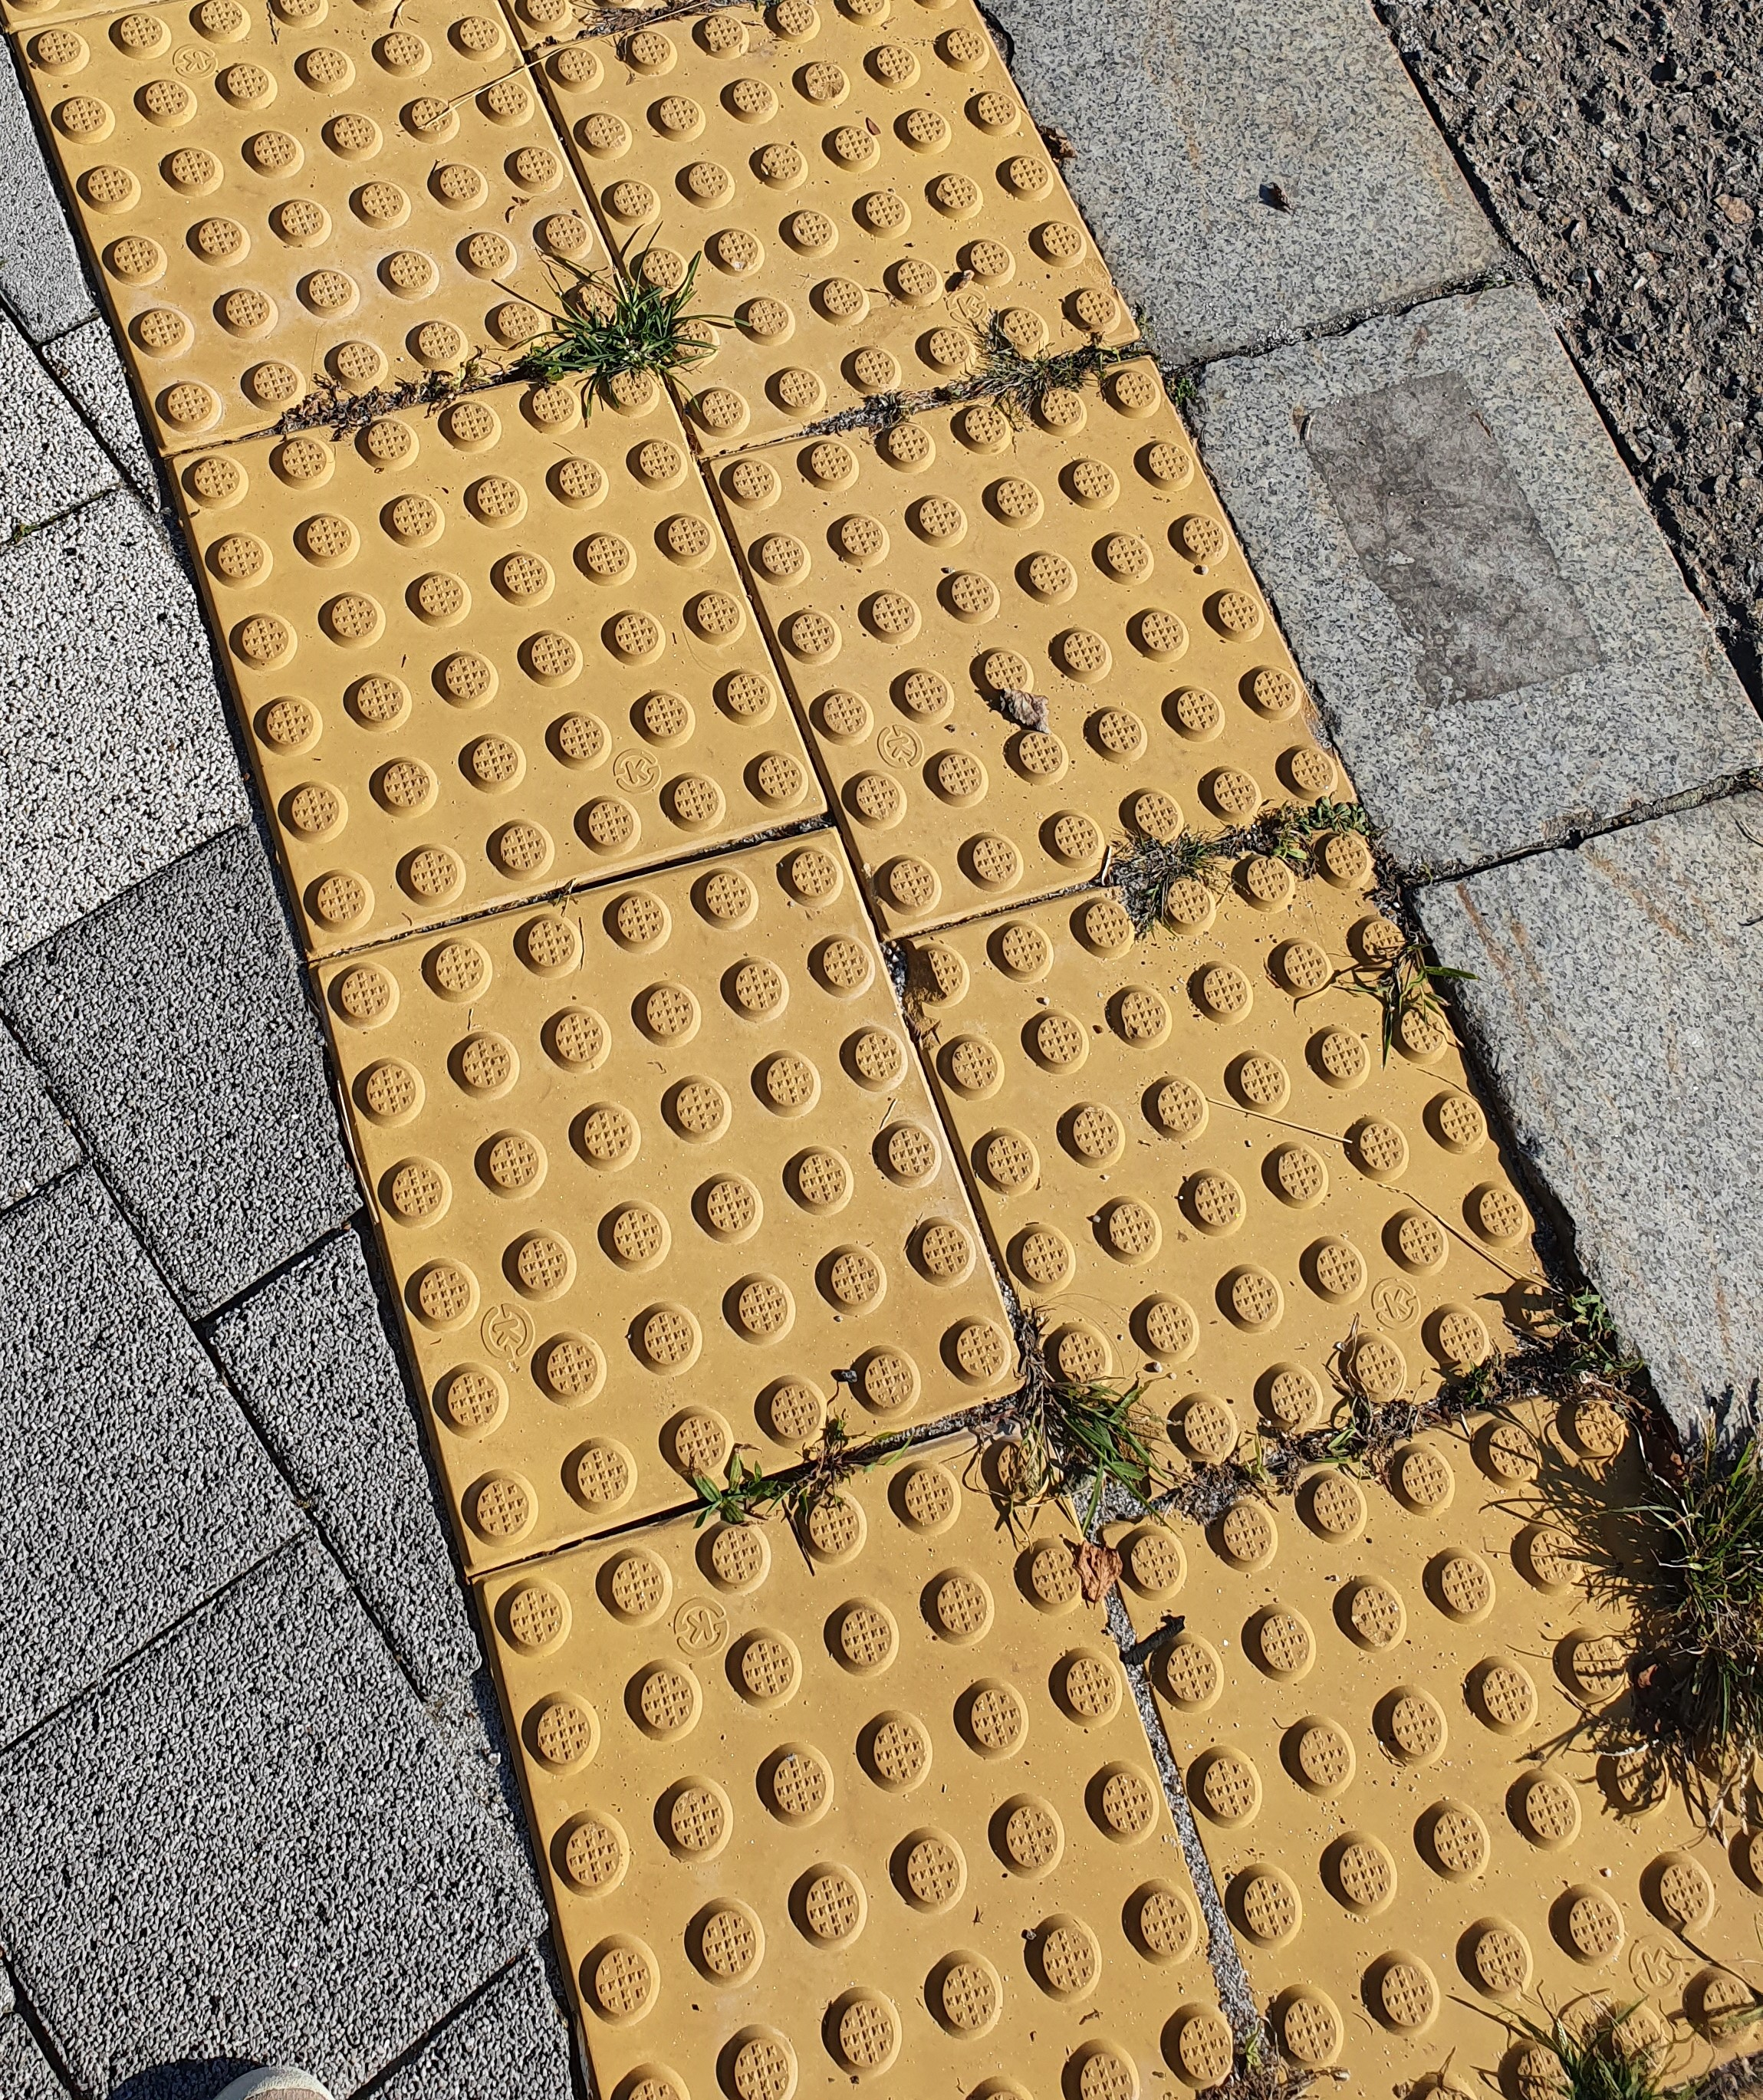warningBlock: (453, 1582, 1247, 2100), (367, 914, 1007, 1464), (1109, 1499, 1763, 2004), (192, 390, 852, 885), (950, 923, 1607, 1371), (719, 523, 1403, 900), (521, 28, 1034, 392), (33, 26, 511, 367)
